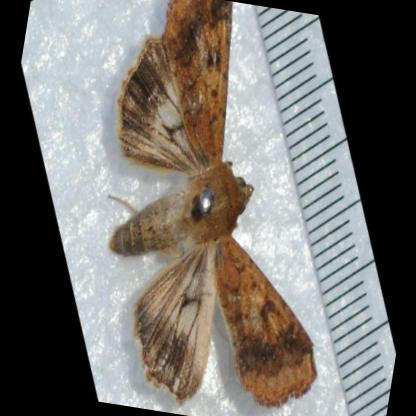helicoverpa: (107, 0, 315, 409)
